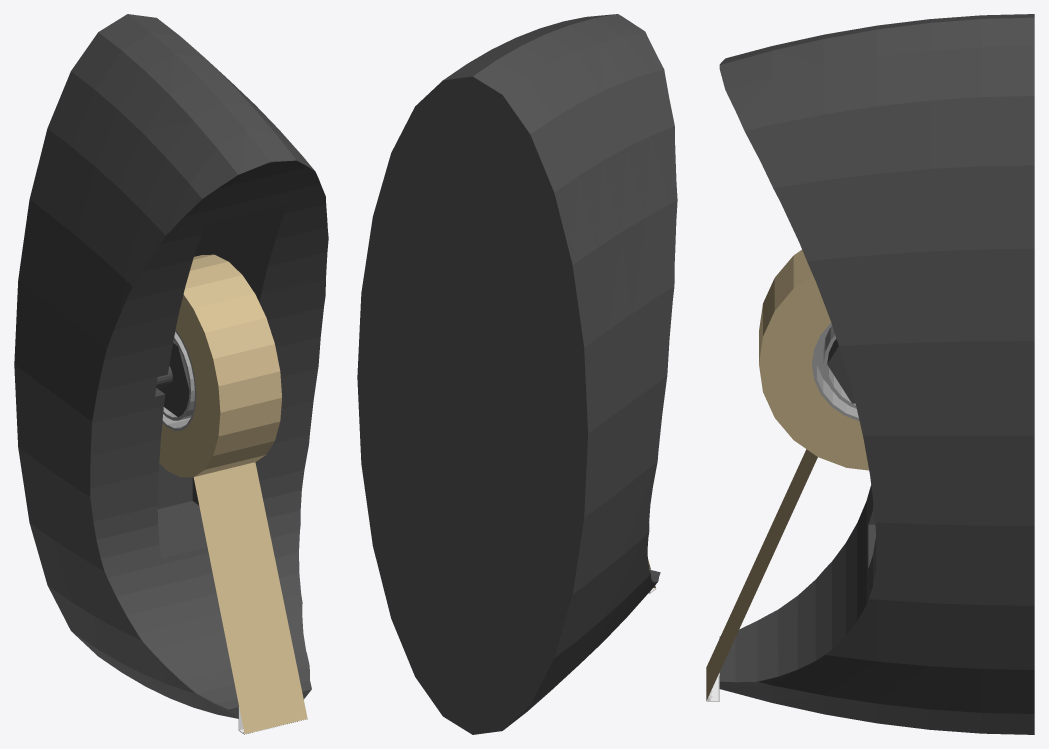
The picture shows the model from 3 angles, left to right: view 1: azimuth 30°, elevation 25°; view 2: azimuth 150°, elevation 25°; view 3: azimuth 270°, elevation 25°; orthographic projection. The views are drawn at different scales.
Visible parts, largest first — view 1: tape dispenser; view 2: tape dispenser; view 3: tape dispenser.
Boxes of the visible parts, x1,y1,x2,y2 form: tape dispenser: (14, 14, 328, 734); tape dispenser: (357, 14, 677, 734); tape dispenser: (706, 14, 1034, 734).
Bounding box in the file's own units: 2.75 × 7.5 × 3.12.
